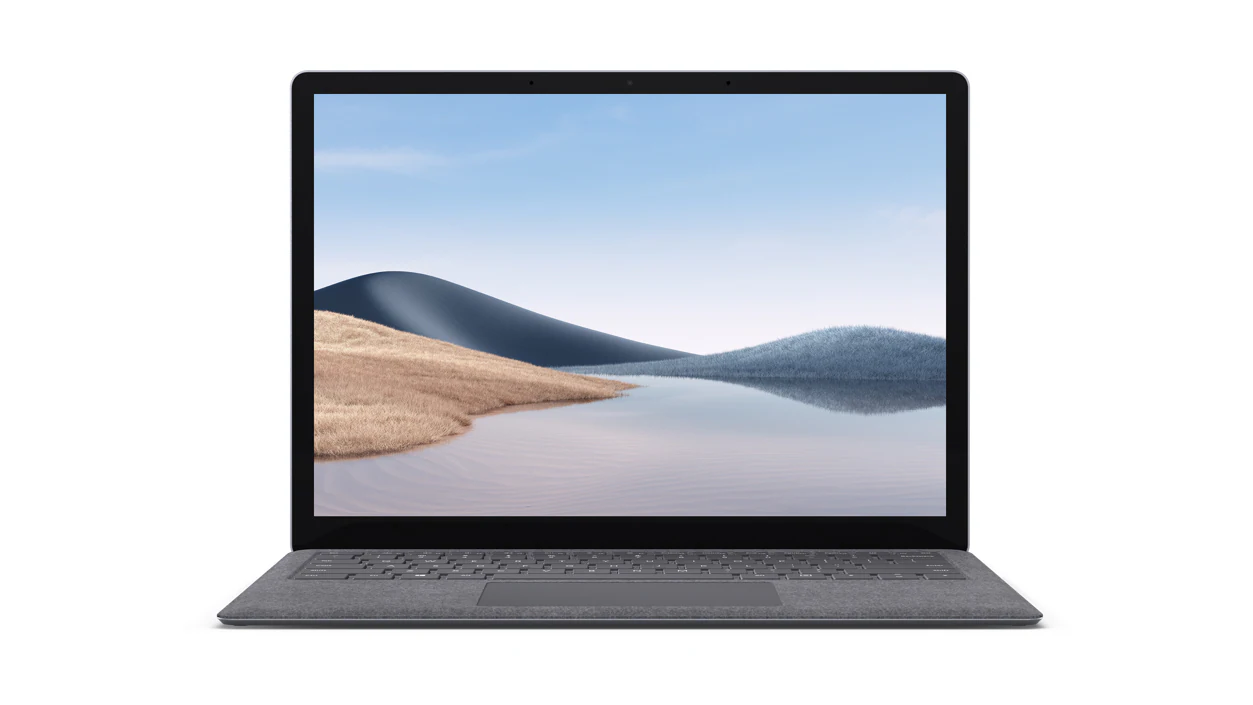laptop: (220, 66, 1048, 632)
